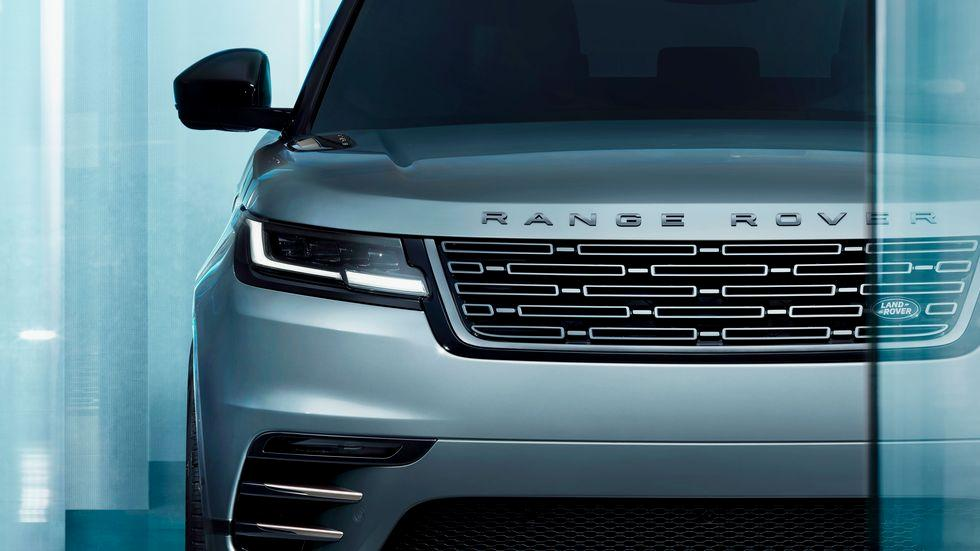range rover: (472, 197, 958, 244)
